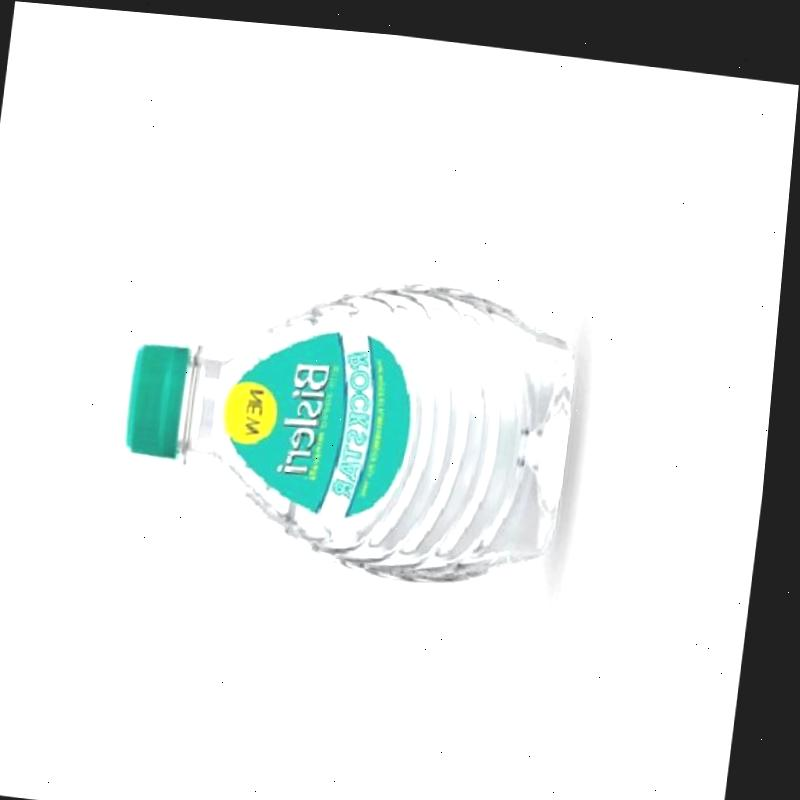botella: (116, 249, 592, 586)
